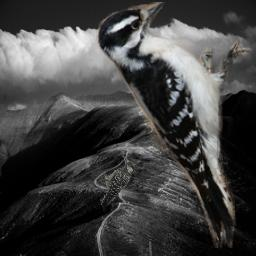Woodpecker: (96, 2, 252, 248), (100, 155, 135, 212)
